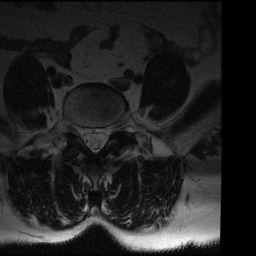CCS_normal: (90, 119, 99, 158)
LFS_normal: (109, 115, 117, 140)
LLS_normal: (99, 122, 108, 150)
RFS_normal: (72, 117, 81, 142)
RLS_normal: (81, 120, 90, 151)
